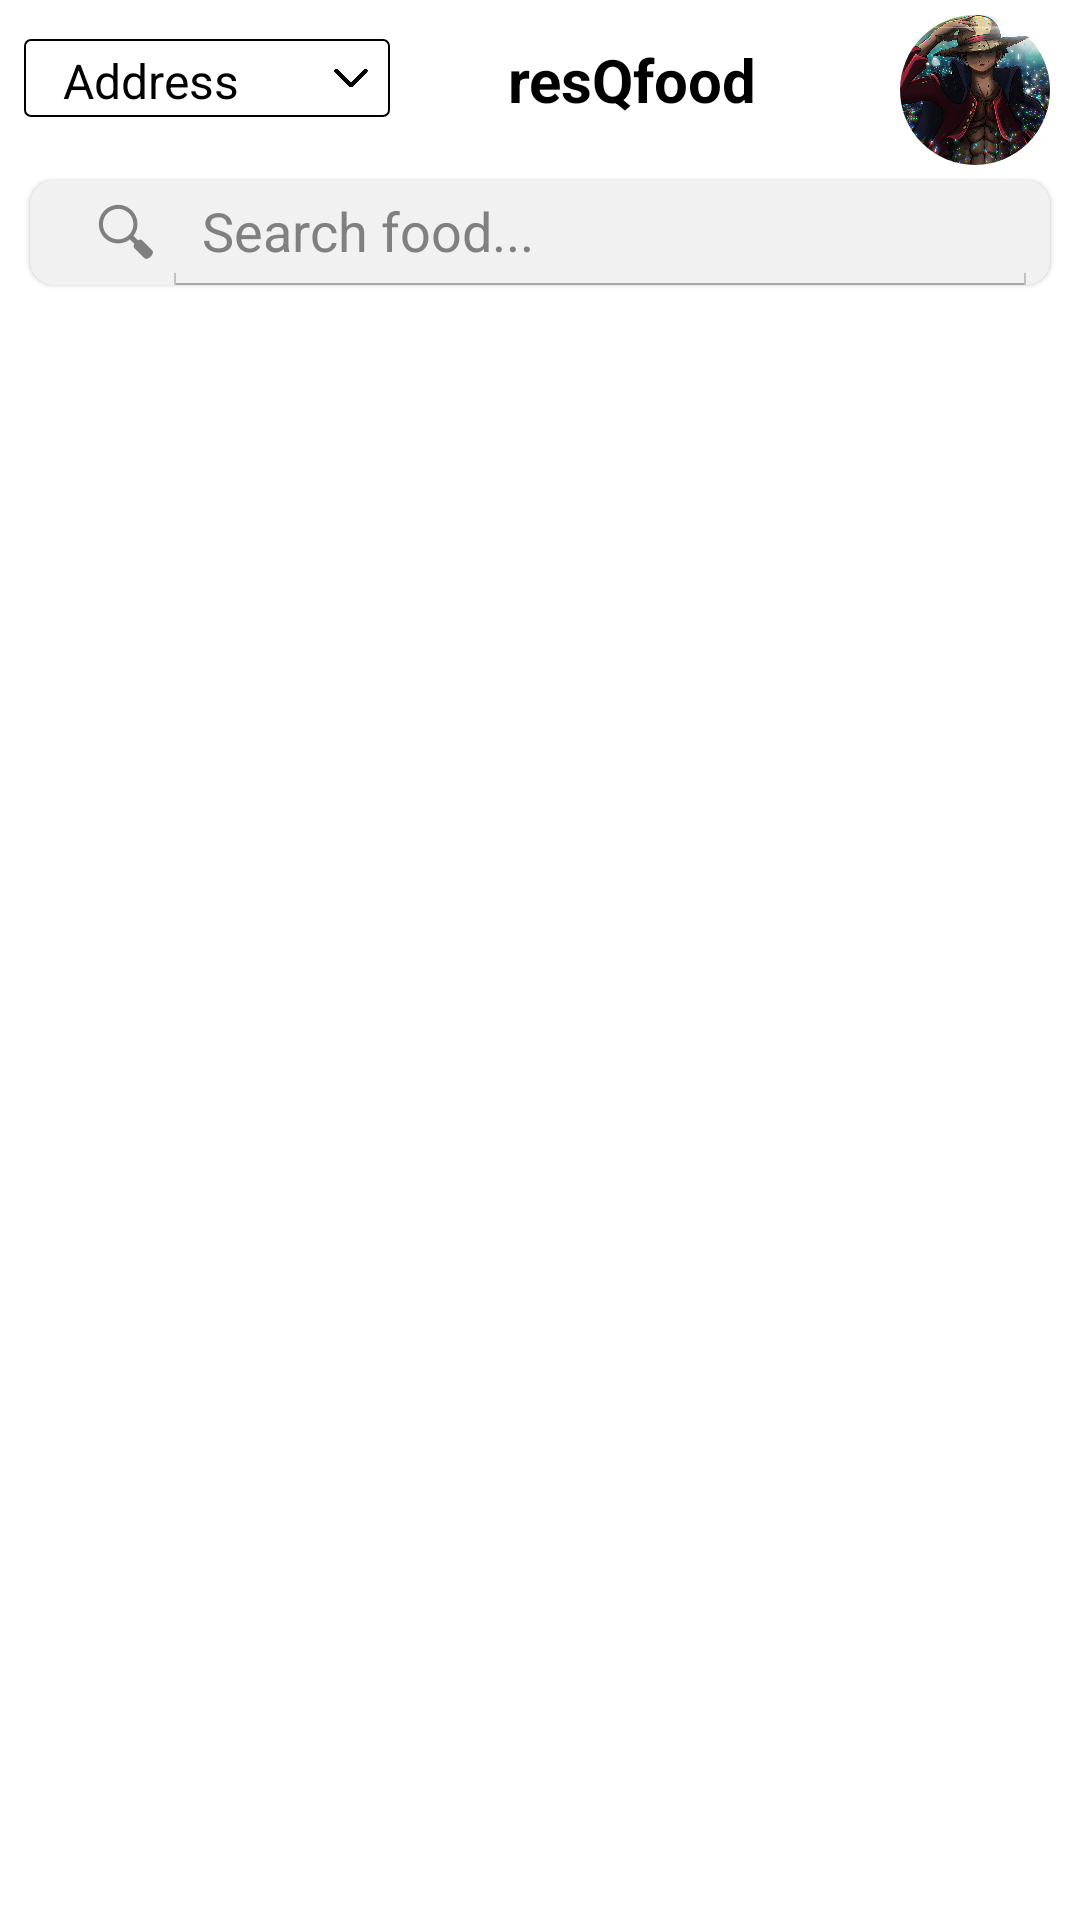

Icon bounding boxes for this 1080 x 1920 phone screenshot, format (x1, y1, x2, y2):
Dropdown Arrow: (334, 69, 368, 87)
